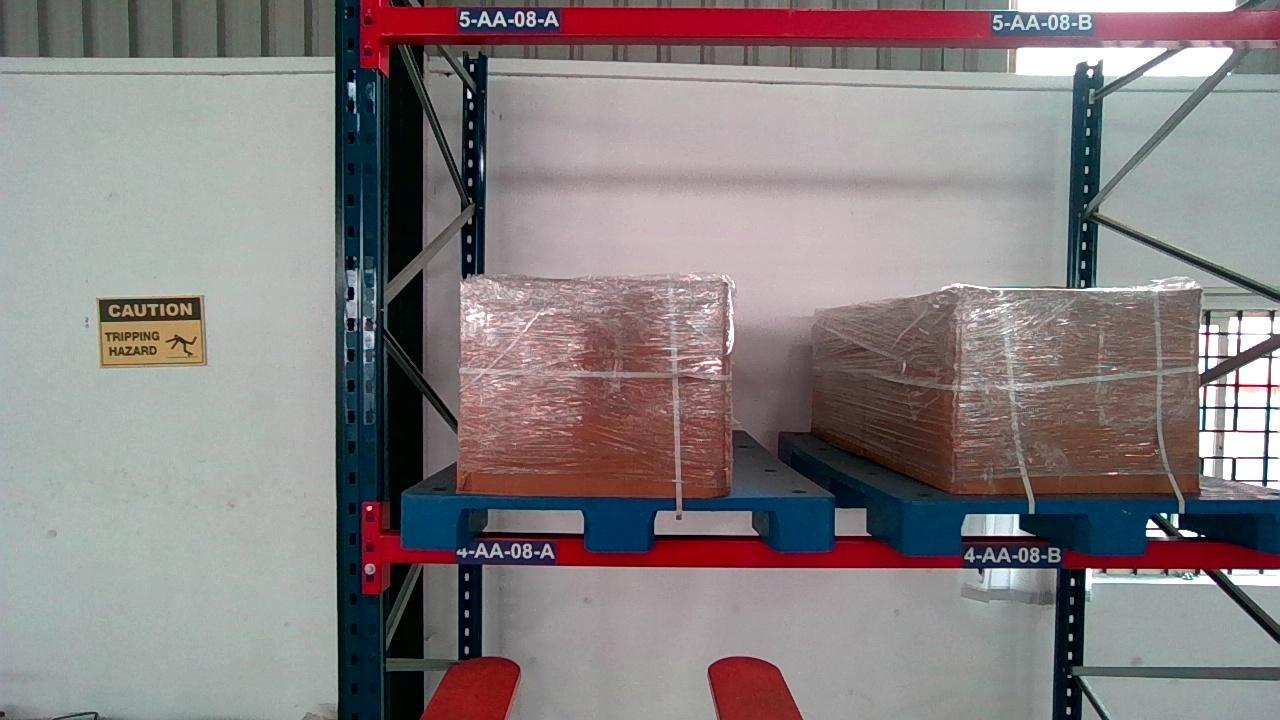h_rack: (380, 534, 1274, 568), (388, 6, 1279, 39)
small_pallet: (401, 493, 834, 551), (903, 500, 1277, 554)
